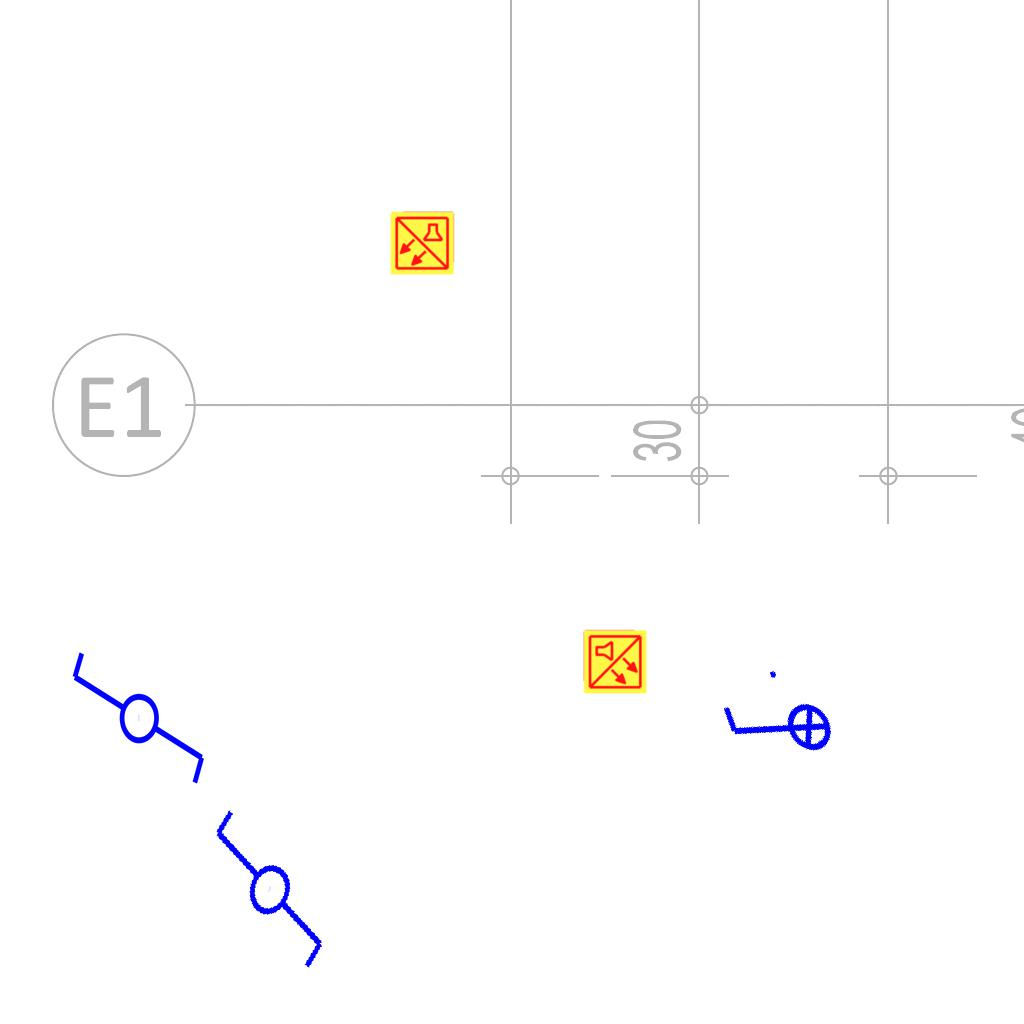Ausschalter_beleuchtet: (706, 654, 850, 802)
OKW_Multisensormelder_(Kombination_optischer_Rauch-Kahlenmonoxid_Waerme-Melder): (389, 210, 455, 276), (582, 629, 648, 695)
Wechselschalter: (175, 802, 356, 992), (65, 648, 209, 805)
